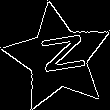N_W: (30, 34, 86, 82)
